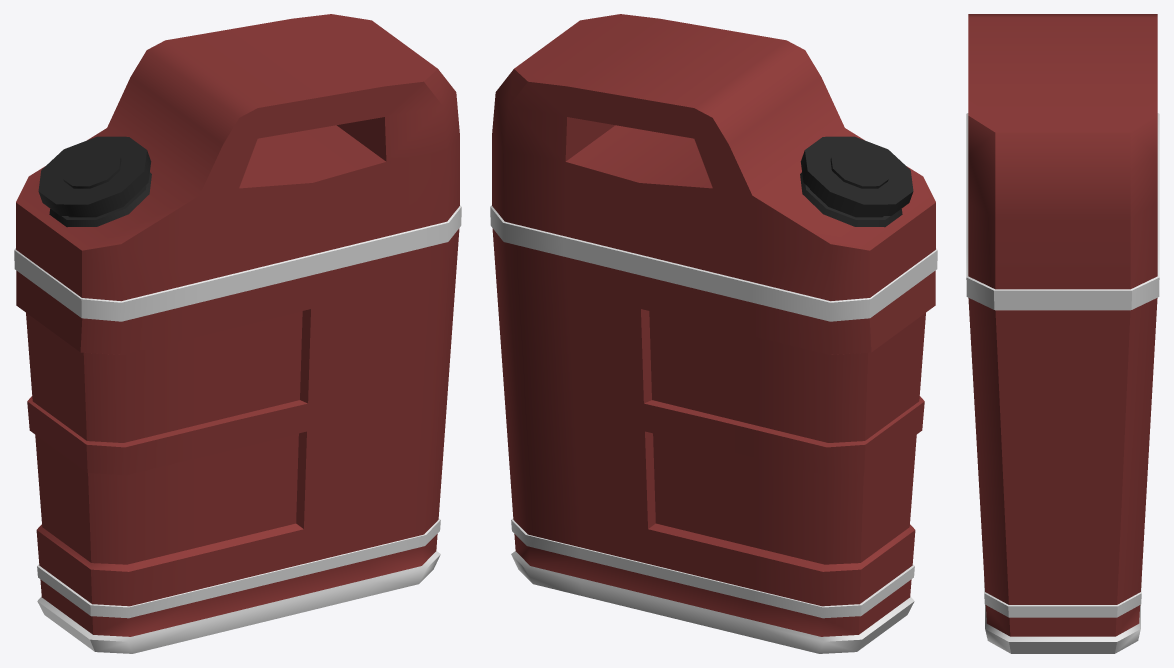
Rendered from Gas Can (1).glb.
3 renders of one model, left to right at view 1: azimuth 30°, elevation 25°; view 2: azimuth 150°, elevation 25°; view 3: azimuth 270°, elevation 25°, orthographic. The views are drawn at different scales.
Parts seen in each view (by area): view 1: GasCan; view 2: GasCan; view 3: GasCan.
Boxes of the visible parts, box(x1,y1,x2,y2) form: GasCan: box(14, 14, 461, 653); GasCan: box(490, 14, 937, 653); GasCan: box(966, 14, 1159, 653).
Bounding box in the file's own units: 0.7966 × 1.05 × 0.3414.
